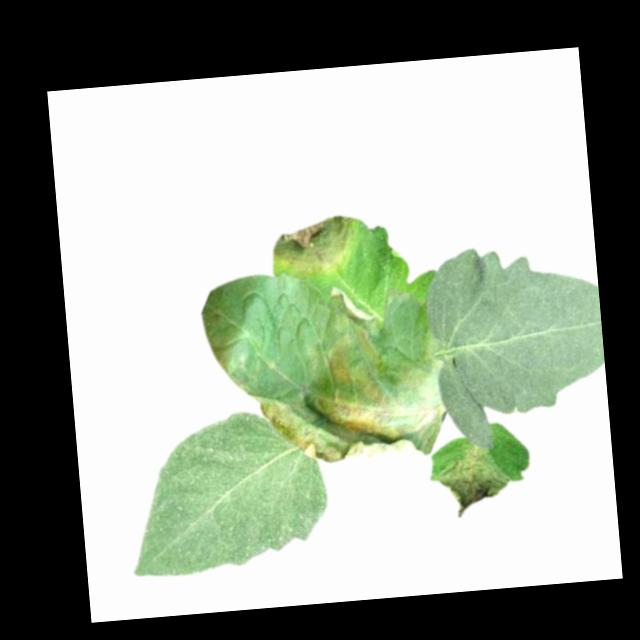Late_blight: (245, 328, 449, 470), (433, 440, 514, 519), (270, 210, 356, 278), (329, 284, 375, 326)
healthy: (423, 236, 610, 451), (119, 402, 334, 580)
